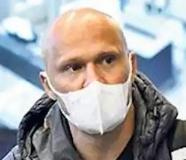WRONG: (52, 42, 134, 136)
